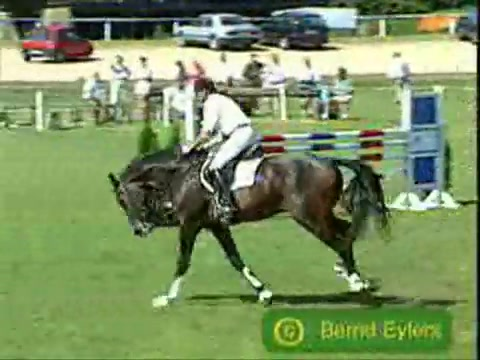horse: (109, 147, 392, 310)
